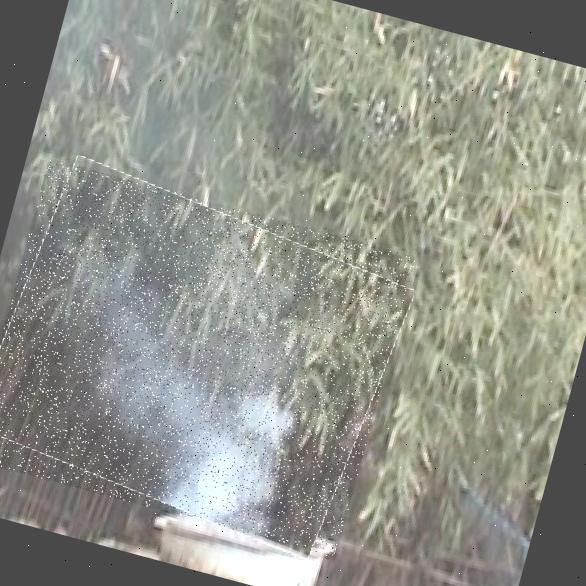smoke: (0, 158, 416, 557)
